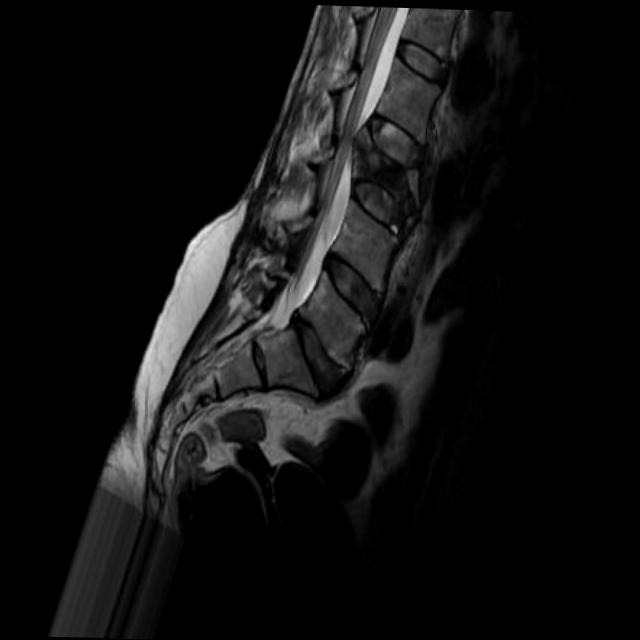Comminuted: (343, 103, 435, 241)
